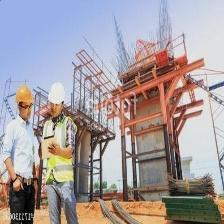Person: (39, 79, 77, 224), (5, 82, 36, 224)
helmet: (48, 84, 65, 106), (15, 88, 33, 103)
no-vest: (7, 122, 33, 185)
vest: (44, 119, 72, 186)
